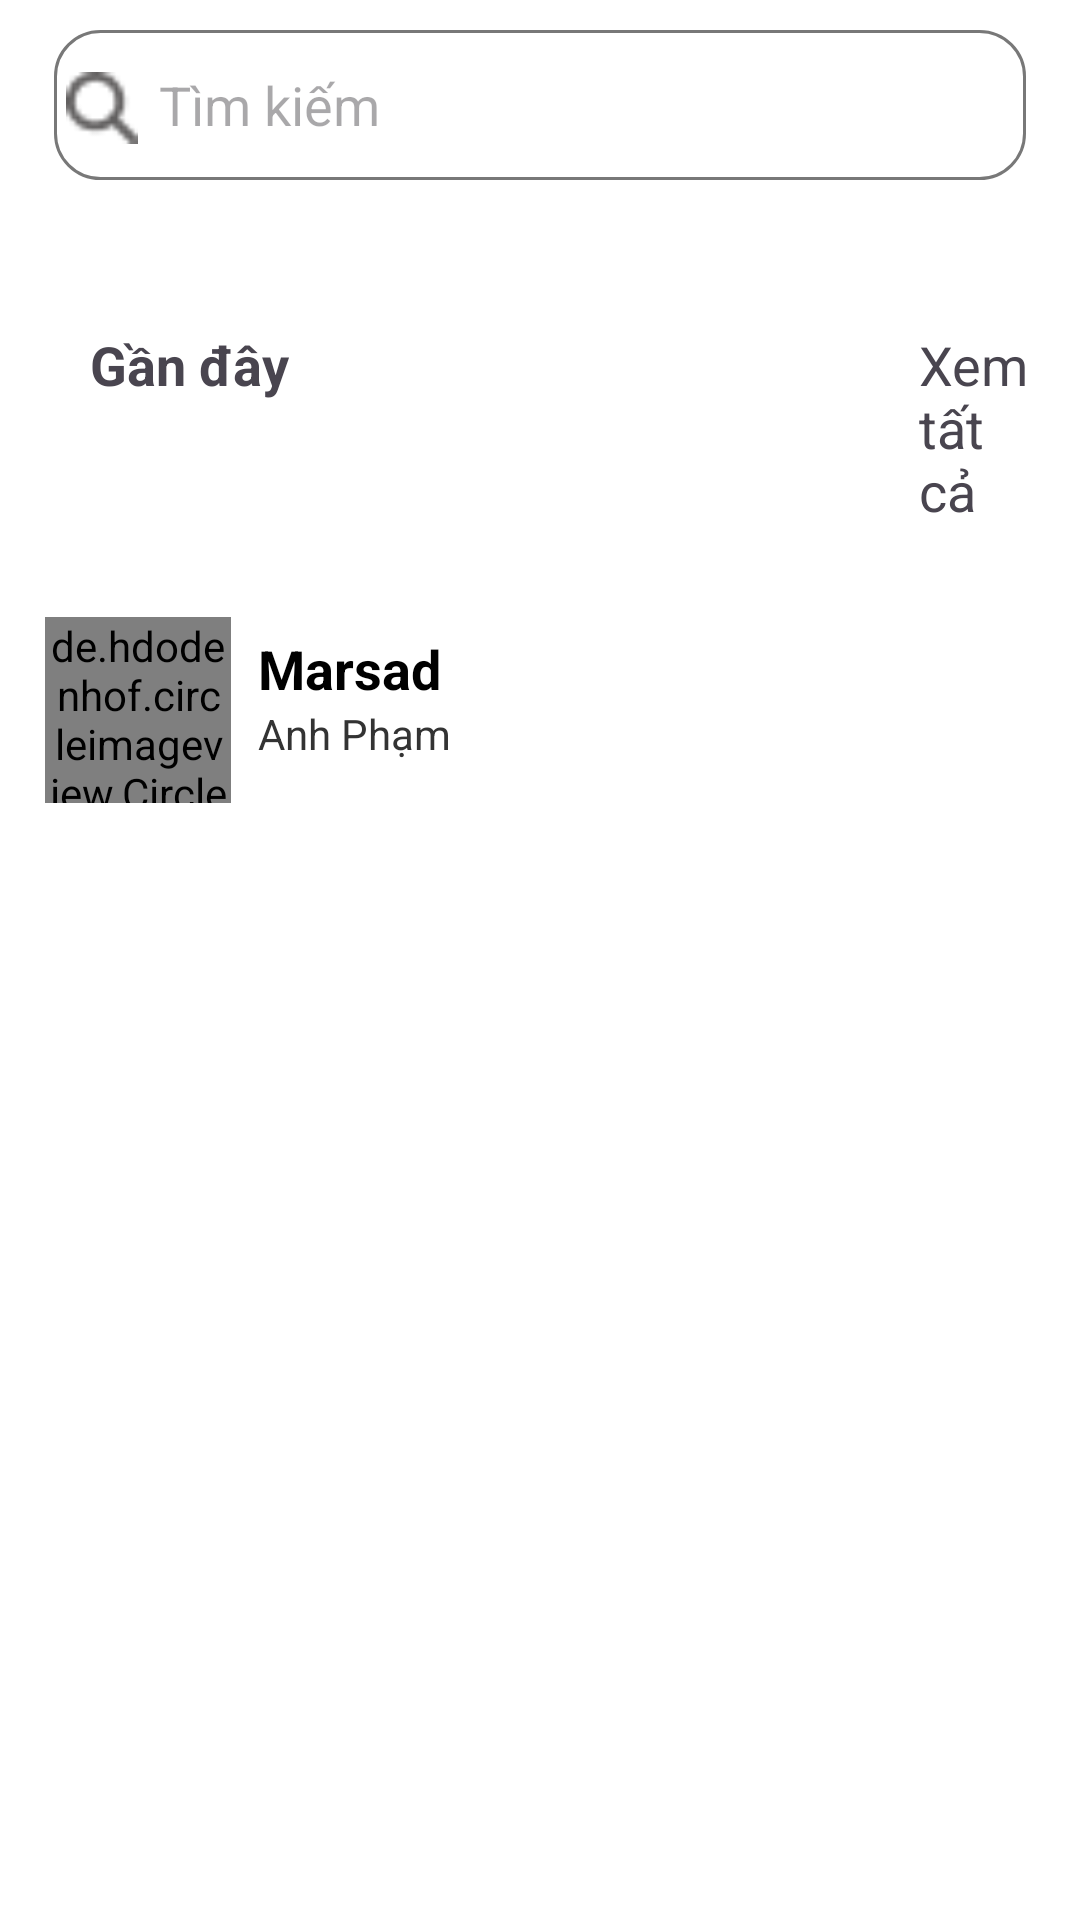

Icons on this 1080×1920 Android screen, each with its box as {"left": x1, "top": y1, "right": x2, "bottom": y2}:
search: {"left": 66, "top": 72, "right": 138, "bottom": 144}
